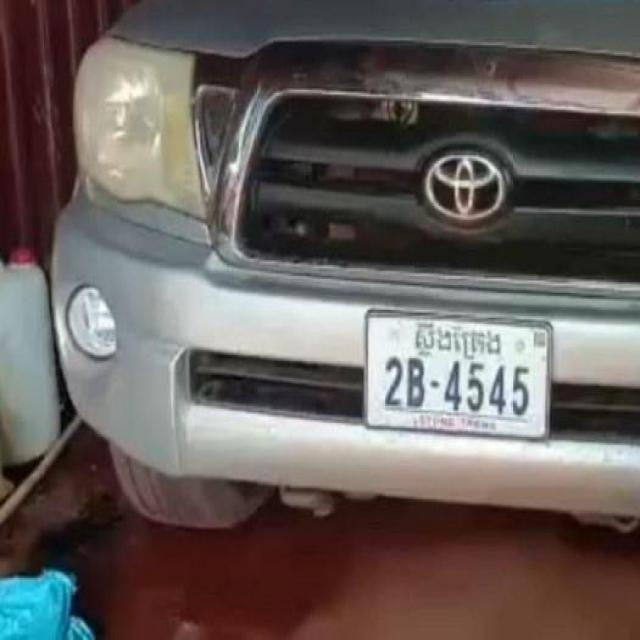Stung_Treng: (415, 321, 502, 361)
